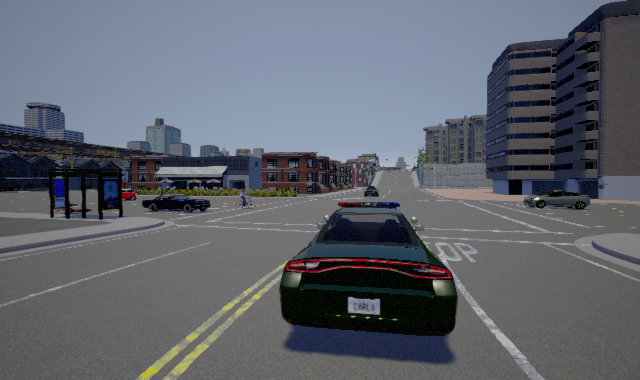bike: (236, 188, 255, 211)
vehicle: (279, 202, 458, 336), (523, 190, 590, 210), (142, 194, 211, 213), (362, 186, 380, 198)
